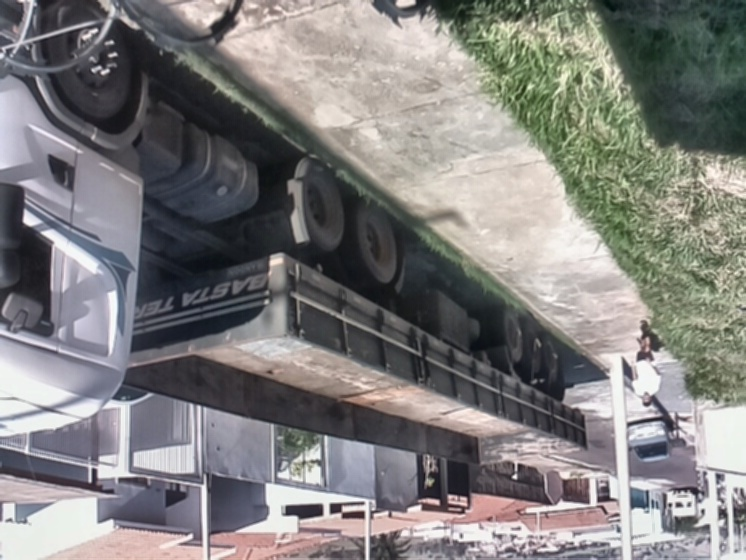person: (628, 319, 662, 410)
